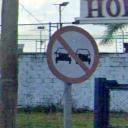NoUltrapassar: (45, 25, 101, 84)
